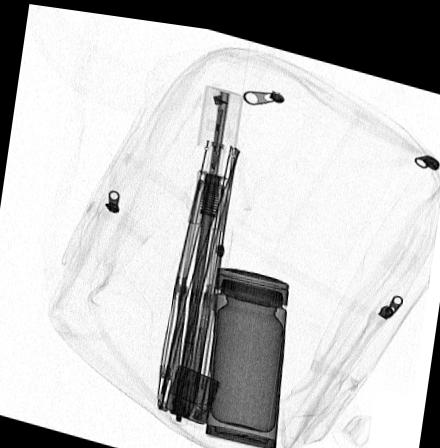Lighter: (164, 360, 220, 420)
